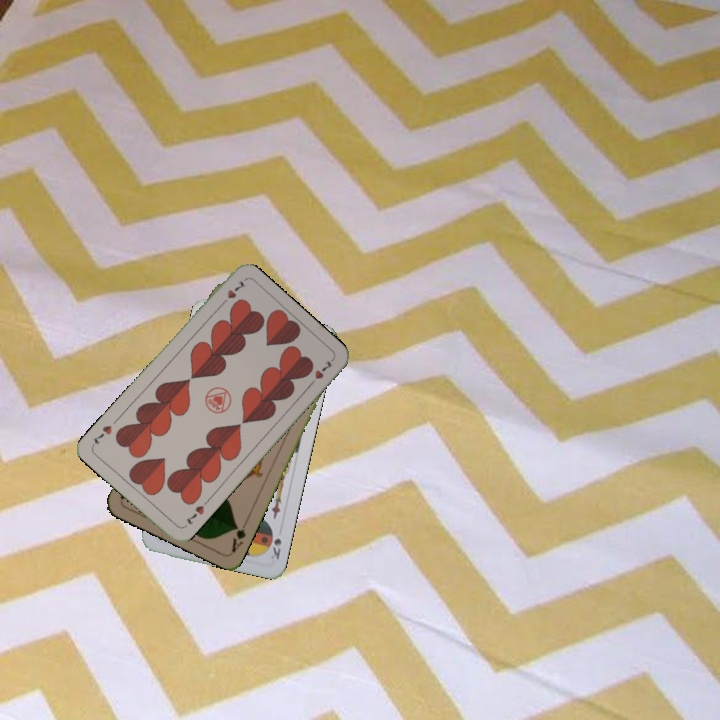GA: (227, 516, 251, 555)
H7: (216, 276, 249, 309), (181, 501, 207, 527)
SK: (267, 534, 284, 562)
